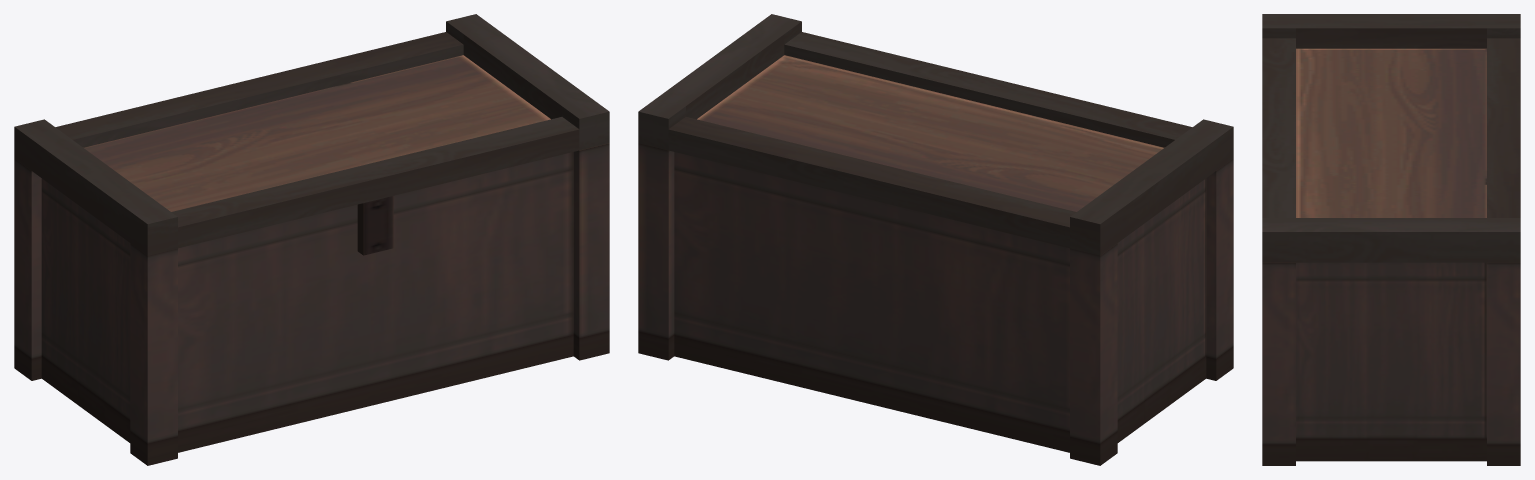
File: vault.fbx
3 views of the same model, side by side, from view 1: azimuth 30°, elevation 25°; view 2: azimuth 150°, elevation 25°; view 3: azimuth 270°, elevation 25° (orthographic). The views are drawn at different scales.
Parts seen in each view (by area): view 1: vault.001; view 2: vault.001; view 3: vault.001.
Boxes of the visible parts, x1,y1,x2,y2 form: vault.001: (14, 14, 609, 465); vault.001: (638, 14, 1233, 465); vault.001: (1262, 14, 1520, 465).
Bounding box in the file's own units: 1.53 × 0.7648 × 0.7648.
Materials: 1 (1 with a texture image).
